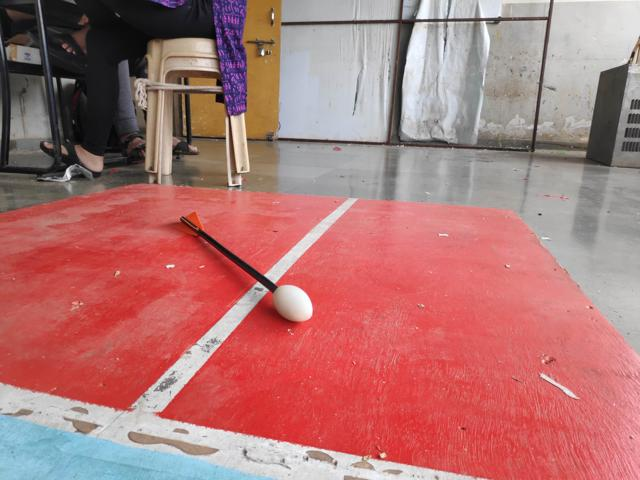Head: (270, 282, 320, 326)
